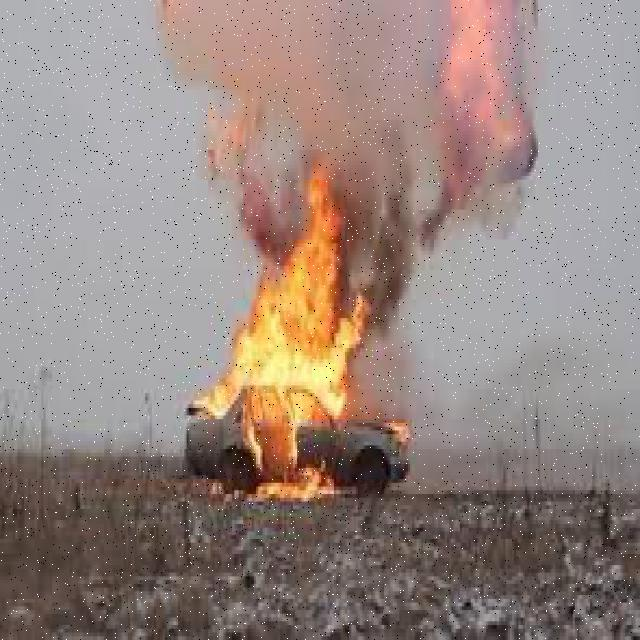fire: (190, 194, 411, 452)
smoke: (167, 8, 548, 190)
